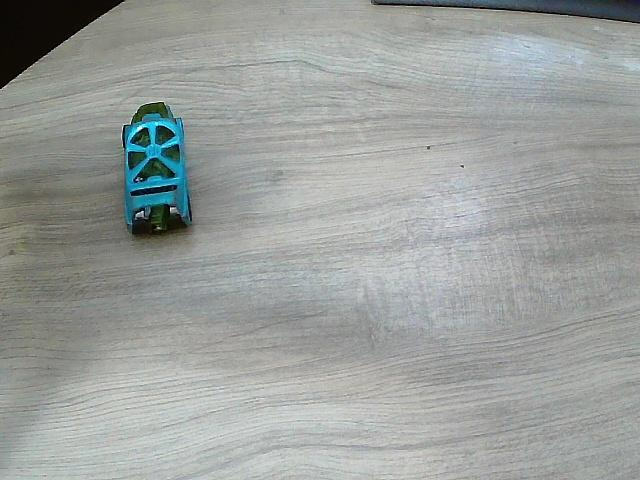Carro: (124, 103, 191, 237)
